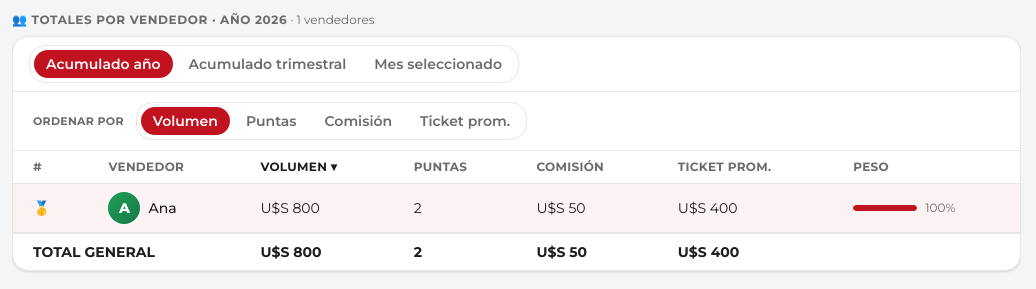
Test: TotalesVendedores — el selector de período, encima de la tabla › el acumulado trimestral muestra Q1–Q4 y pide el trimestre elegido
Click the button "Acumulado trimestral": {"x": 267, "y": 64} x1=177 y1=50 x2=358 y2=78
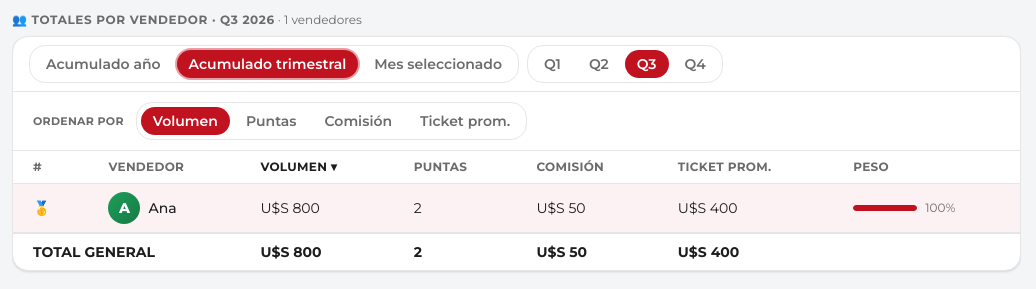
expect the heading "👥 Totales por vendedor · Q3 2026 · 1 vendedores" is shown: met, box x1=12 y1=12 x2=362 y2=27
Click the button "Q1": {"x": 552, "y": 64} x1=532 y1=50 x2=573 y2=78
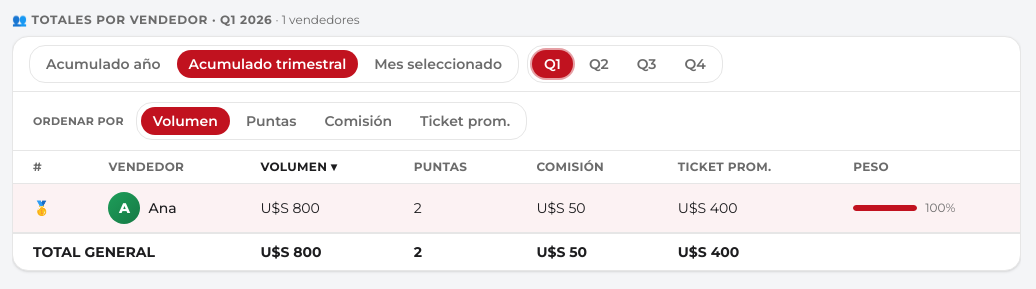
expect the heading "👥 Totales por vendedor · Q1 2026 · 1 vendedores" is shown: met, box x1=12 y1=12 x2=360 y2=27
